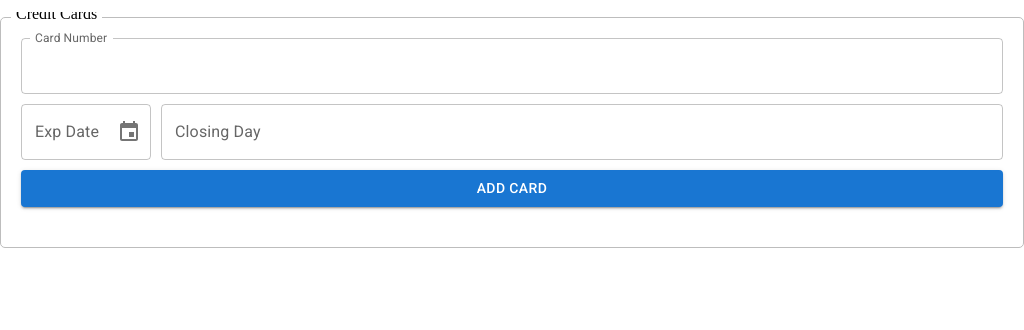
it: CreditCardForm › should show required error when number is empty and Add card is clicked
Click the button "Add Card" at {"x": 512, "y": 188}, box [21,170,1003,206]
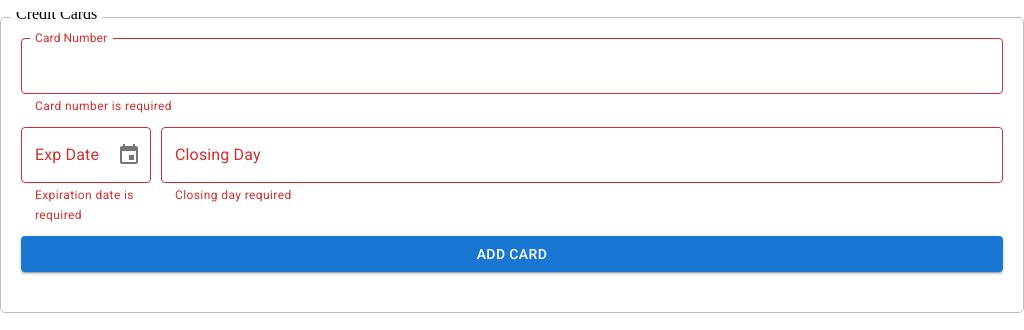
Now the text "Card number is required" is shown, box [35,99,172,113]
